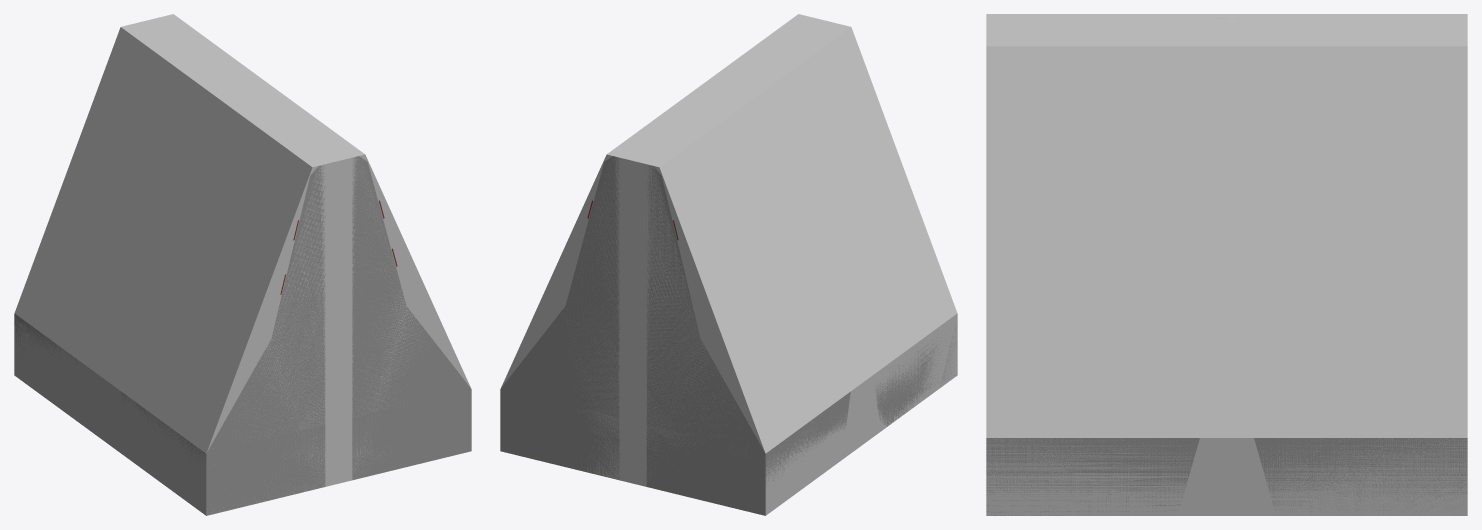
The model's file is SM_Barrier_01_a.fbx.
3 renders of one model, left to right at view 1: azimuth 30°, elevation 25°; view 2: azimuth 150°, elevation 25°; view 3: azimuth 270°, elevation 25°, orthographic. The views are drawn at different scales.
Visible parts, largest first — view 1: SM_Barrier_01_a_ConvexHulls, SM_Barrier_01_a; view 2: SM_Barrier_01_a_ConvexHulls, SM_Barrier_01_a; view 3: SM_Barrier_01_a_ConvexHulls, SM_Barrier_01_a.
Boxes of the visible parts, x1,y1,x2,y2 form: SM_Barrier_01_a_ConvexHulls: (14,14,470,515); SM_Barrier_01_a: (14,95,471,515); SM_Barrier_01_a_ConvexHulls: (501,14,957,515); SM_Barrier_01_a: (500,156,956,515); SM_Barrier_01_a_ConvexHulls: (986,14,1467,515); SM_Barrier_01_a: (986,18,1467,515).
Bounding box in the file's own units: 67.51 × 84.62 × 78.52.
Materials: 2 (1 with a texture image).
